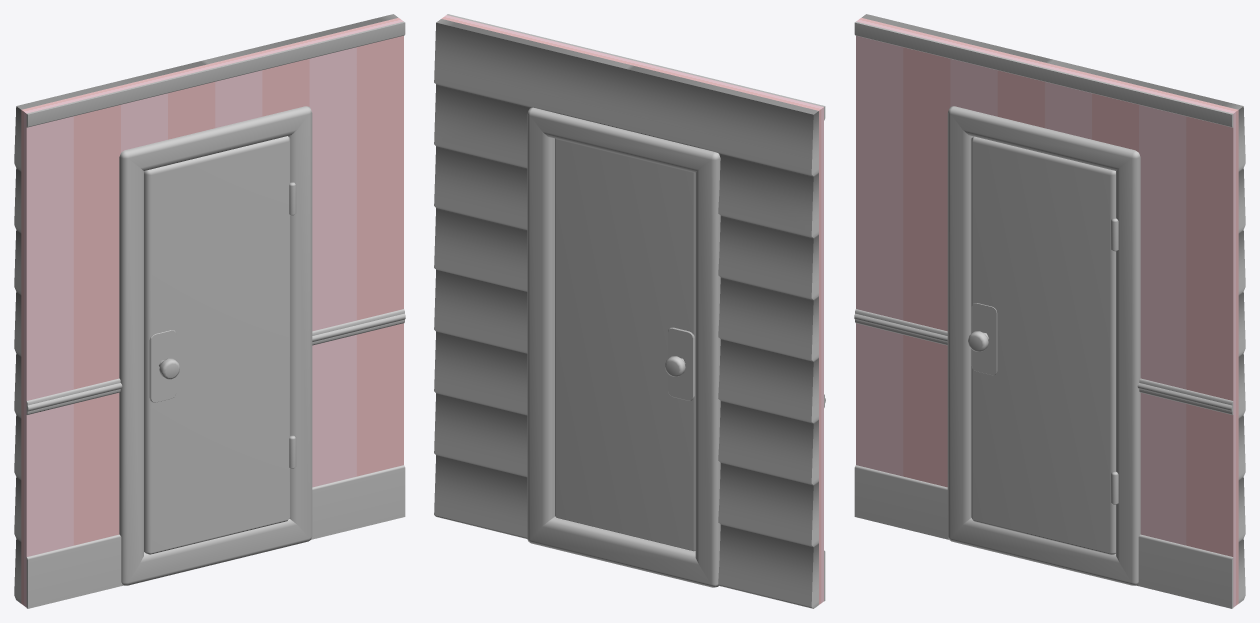
Rendered from DoorCentered.fbx.
3 renders of one model, left to right at view 1: azimuth 30°, elevation 25°; view 2: azimuth 150°, elevation 25°; view 3: azimuth 330°, elevation 25°, orthographic.
Visible parts, largest first — view 1: Door, Wall_Interior6, Wall_Interior7, DoorFrame, Wall_Exterior10, Wall_Exterior11; view 2: Wall_Exterior10, Door, Wall_Exterior11, DoorFrame, Wall_Interior6, Wall_Interior7; view 3: Door, Wall_Interior7, Wall_Interior6, DoorFrame, Wall_Exterior11, Wall_Exterior10.
Boxes of the visible parts, box(x1,y1,x2,y2) form: Door: box(144, 136, 296, 554); Wall_Interior6: box(21, 64, 216, 608); Wall_Interior7: box(210, 18, 405, 539); DoorFrame: box(119, 106, 312, 585); Wall_Exterior10: box(14, 60, 209, 603); Wall_Exterior11: box(205, 14, 398, 63); Wall_Exterior10: box(623, 65, 818, 608); Door: box(555, 138, 695, 551); Wall_Exterior11: box(434, 19, 629, 538); DoorFrame: box(527, 107, 720, 587); Wall_Interior6: box(630, 60, 825, 604); Wall_Interior7: box(441, 14, 635, 64); Door: box(968, 136, 1118, 554); Wall_Interior7: box(1043, 64, 1238, 608); Wall_Interior6: box(854, 18, 1049, 539); DoorFrame: box(947, 106, 1140, 585); Wall_Exterior11: box(1050, 60, 1245, 603); Wall_Exterior10: box(861, 14, 1054, 63).
Bounding box in the file's own units: 2 × 2.51 × 0.2884.
